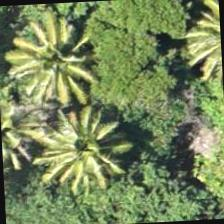Kelapa_Sawit: (34, 103, 130, 198), (3, 7, 98, 102)
